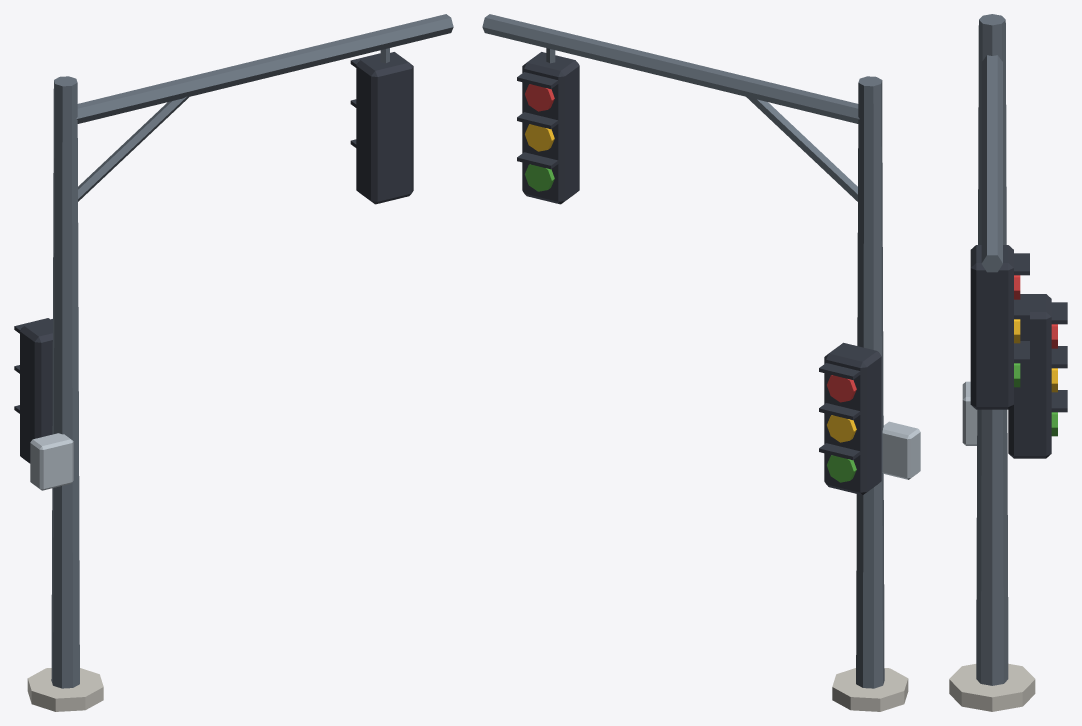
Rendered from kit-cidade-semaforo.glb.
The picture shows the model from 3 angles, left to right: view 1: azimuth 30°, elevation 25°; view 2: azimuth 150°, elevation 25°; view 3: azimuth 270°, elevation 25°; orthographic projection. The views are drawn at different scales.
Parts seen in each view (by area): view 1: corpo; view 2: corpo; view 3: corpo.
Part boxes in pixels (box(x1,y1,x2,y2)): corpo: box(14, 14, 453, 711); corpo: box(482, 14, 920, 711); corpo: box(949, 14, 1067, 711).
Bounding box in the file's own units: 0.99 × 1.38 × 0.22.
